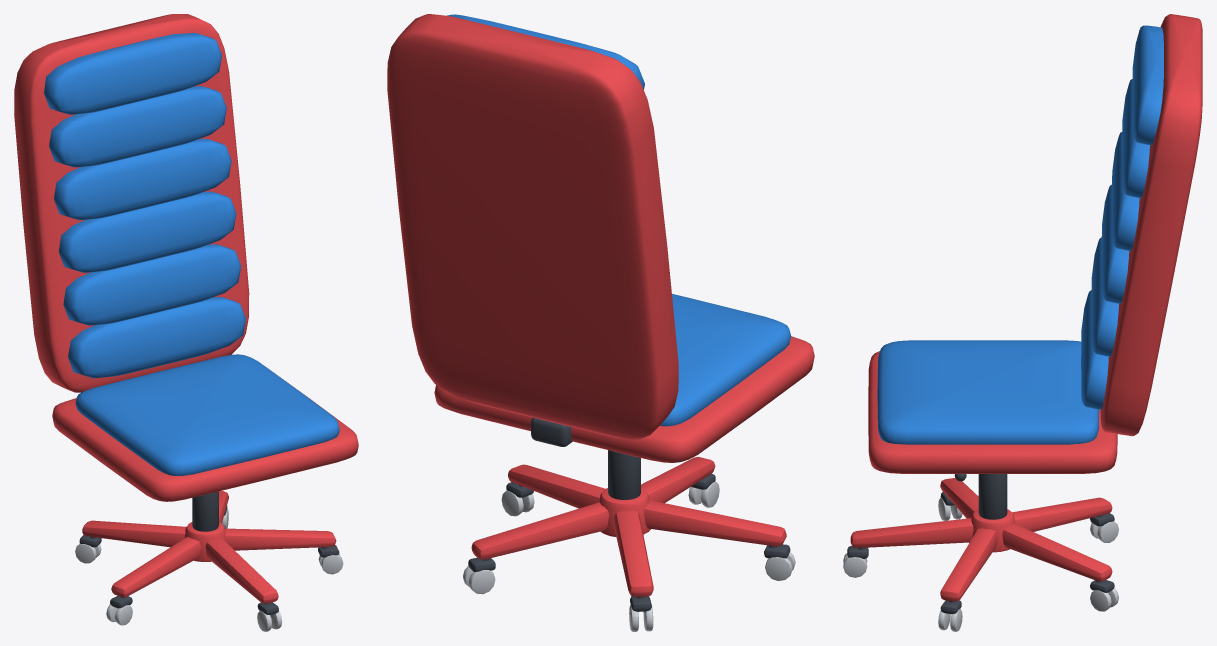
File: cadeira_escritorio_executiva_azul.glb
The picture shows the model from 3 angles, left to right: view 1: azimuth 30°, elevation 25°; view 2: azimuth 150°, elevation 25°; view 3: azimuth 270°, elevation 25°; orthographic projection. The views are drawn at different scales.
Parts seen in each view (by area): view 1: cadeira_escritorio_executiva_azul; view 2: cadeira_escritorio_executiva_azul; view 3: cadeira_escritorio_executiva_azul.
Part boxes in pixels (bbox=[...]): cadeira_escritorio_executiva_azul: bbox=[14, 14, 358, 631]; cadeira_escritorio_executiva_azul: bbox=[387, 14, 814, 631]; cadeira_escritorio_executiva_azul: bbox=[843, 14, 1202, 631].
Bounding box in the file's own units: 0.6265 × 1.25 × 0.7774.
1 material, 1 textured.
